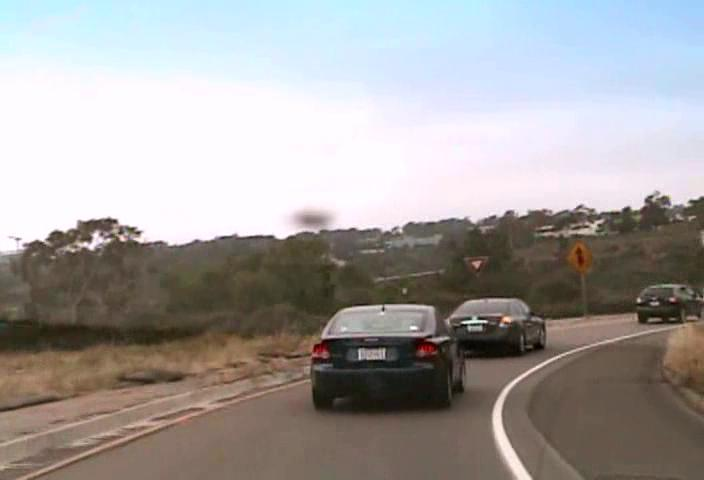merge: (565, 240, 595, 273)
